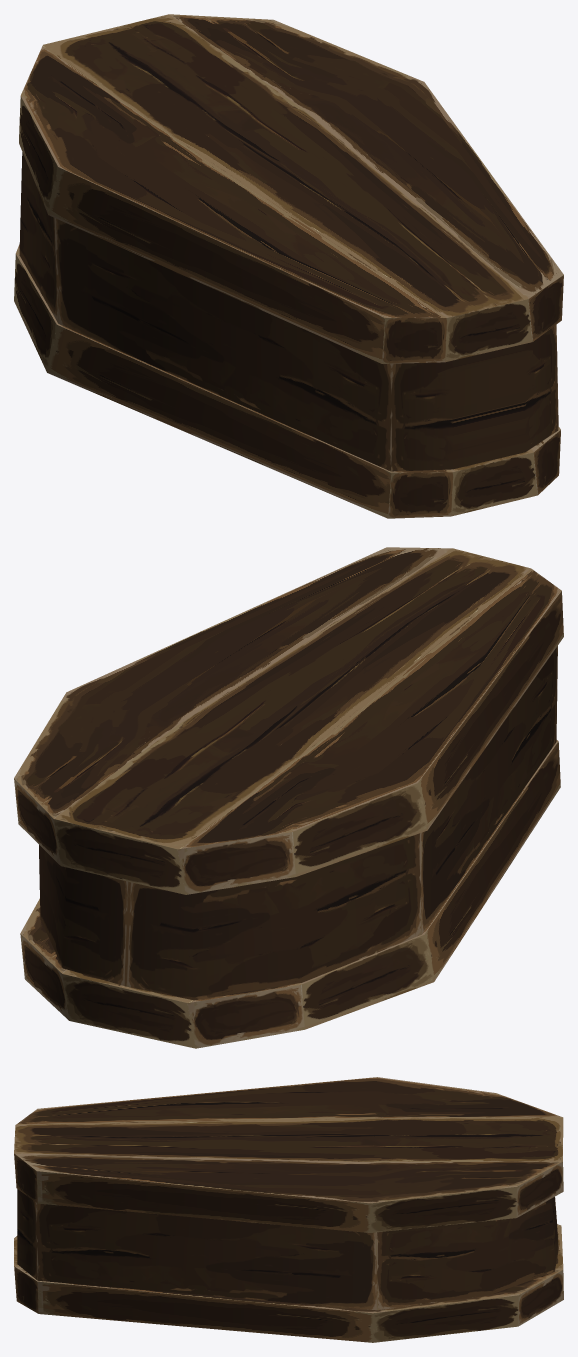
File: SM_PROP_coffin.fbx
3 views of the same model, one above another, from view 1: azimuth 30°, elevation 25°; view 2: azimuth 150°, elevation 25°; view 3: azimuth 270°, elevation 25° (orthographic). The views are drawn at different scales.
Parts seen in each view (by area): view 1: SM_PROP_coffin_lid, SM_PROP_coffin; view 2: SM_PROP_coffin_lid, SM_PROP_coffin; view 3: SM_PROP_coffin_lid, SM_PROP_coffin.
Boxes of the visible parts, x1,y1,x2,y2 form: SM_PROP_coffin_lid: (19, 14, 563, 363); SM_PROP_coffin: (14, 152, 560, 518); SM_PROP_coffin_lid: (14, 547, 563, 894); SM_PROP_coffin: (20, 646, 560, 1048); SM_PROP_coffin_lid: (14, 1077, 563, 1232); SM_PROP_coffin: (14, 1189, 563, 1342).
Size of the model in its own units: 154 by 78.83 by 272.
